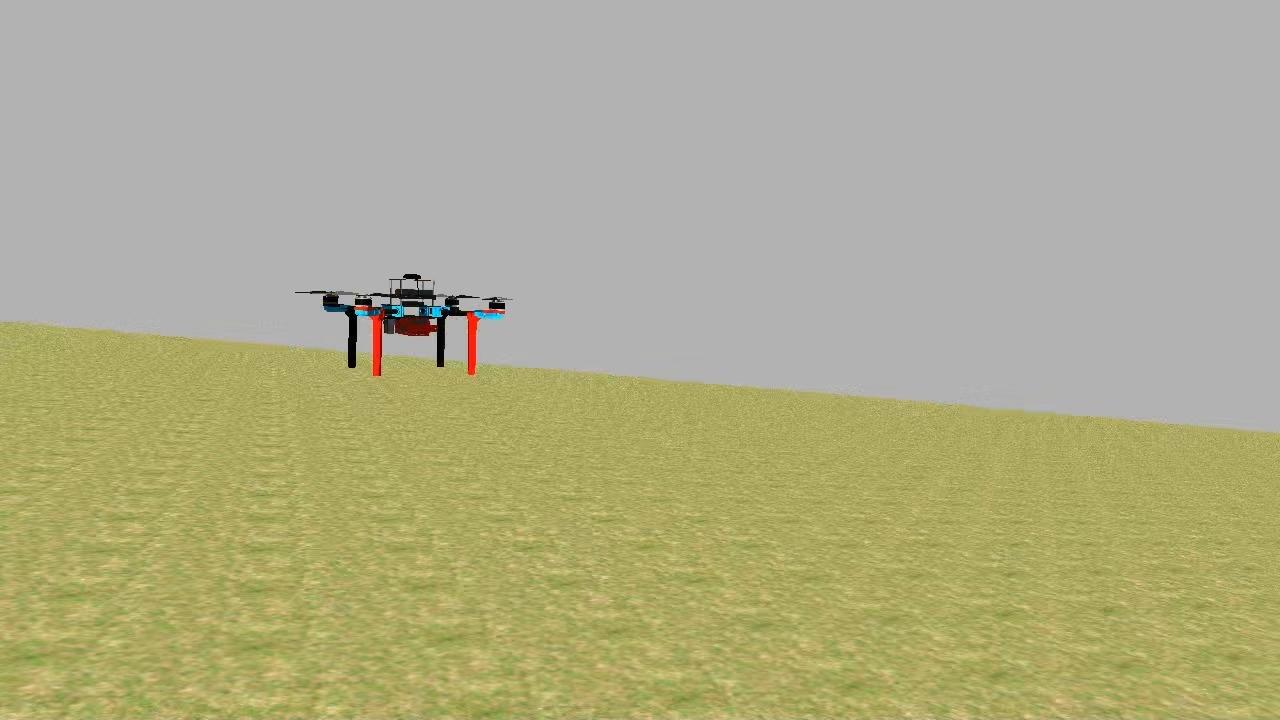UAV: (320, 268, 512, 384)
